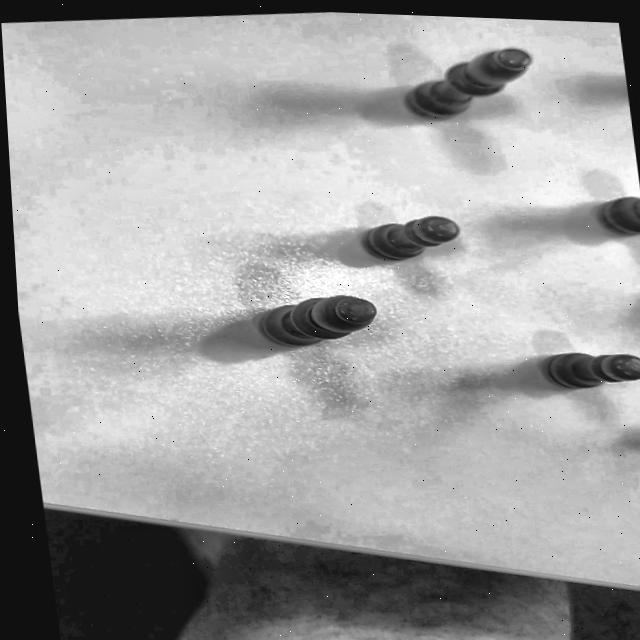black-bishop: (376, 27, 552, 139), (215, 276, 408, 376)
black-pawn: (332, 201, 484, 272), (515, 334, 640, 402)
